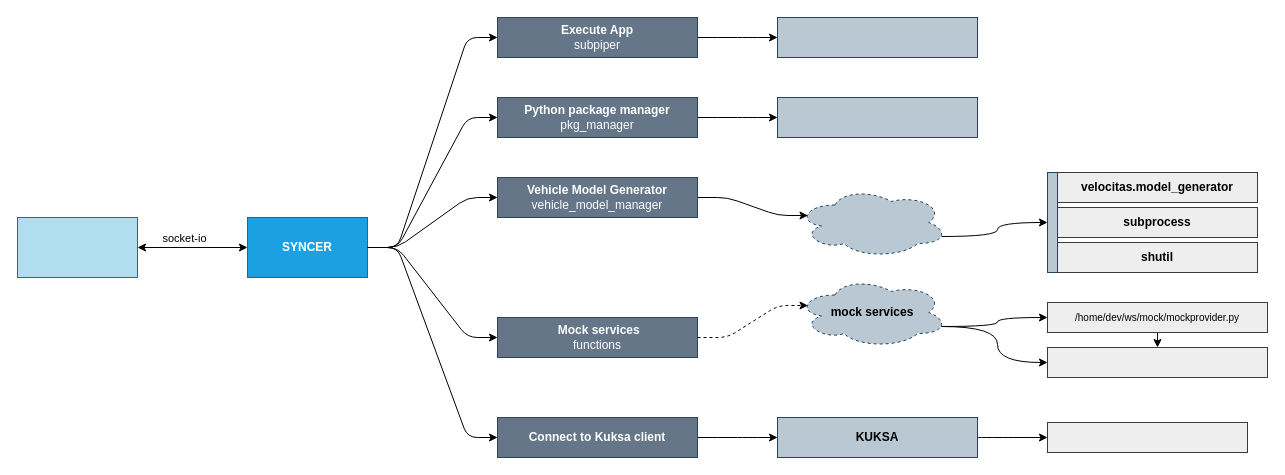
This 1285x475 diagram has some shape labels left out. The shapes that lost their labels are listed below. From the top down, each one's centre as x and y in pixels, then its label:
At point (877, 37): "subpiper".
At point (877, 117): "NPM".
At point (872, 222): "model generator".
At point (77, 247): "IO Server".
At point (1157, 362): "/home/dev/ws/mock/signals.json".
At point (1147, 437): "kuksa-client".
